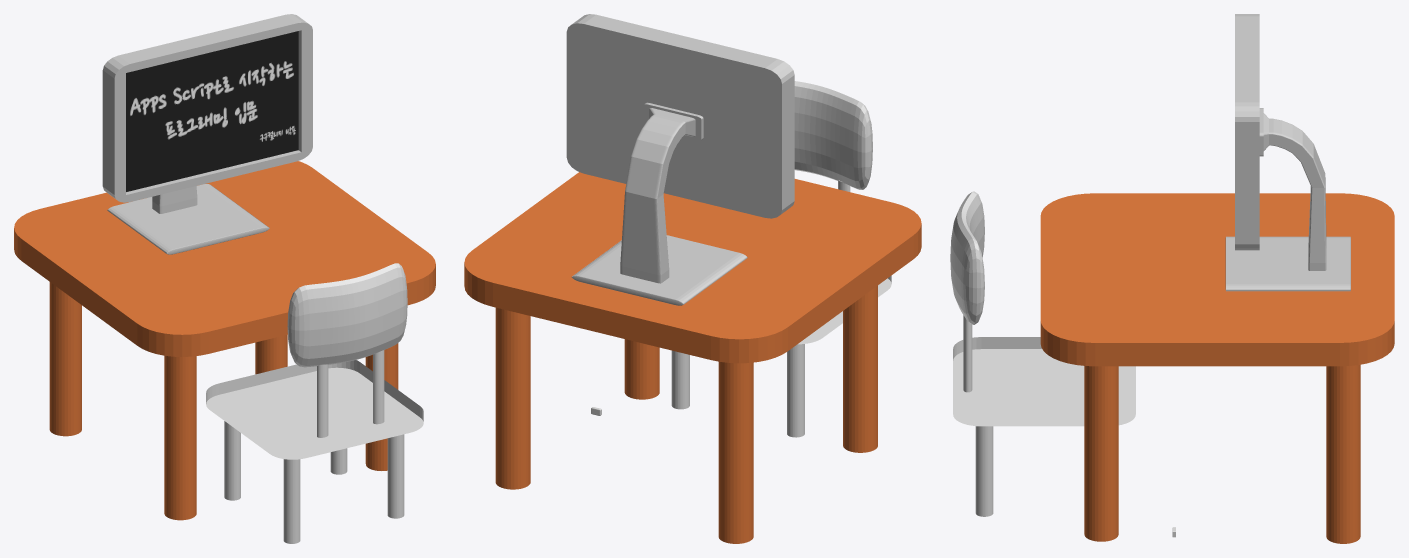
The model's file is desk_c_com_s_m.glb.
3 views of the same model, side by side, from view 1: azimuth 30°, elevation 25°; view 2: azimuth 150°, elevation 25°; view 3: azimuth 270°, elevation 25° (orthographic). The views are drawn at different scales.
Visible parts, largest first — view 1: desk, screen, monitor, chair_b, chair_f, silver; view 2: desk, monitor, chair_f, silver, chair_b; view 3: desk, monitor, chair_b, chair_f, silver.
Part boxes in pixels (x1=…): desk: x1=14, y1=161, x2=435, y2=520; screen: x1=126, y1=31, x2=298, y2=191; monitor: x1=102, y1=14, x2=312, y2=254; chair_b: x1=206, y1=360, x2=423, y2=459; chair_f: x1=287, y1=263, x2=407, y2=367; silver: x1=224, y1=350, x2=404, y2=543; desk: x1=464, y1=172, x2=921, y2=543; monitor: x1=566, y1=14, x2=794, y2=305; chair_f: x1=794, y1=81, x2=872, y2=189; silver: x1=671, y1=180, x2=850, y2=437; chair_b: x1=798, y1=275, x2=891, y2=344; desk: x1=1040, y1=193, x2=1394, y2=543; monitor: x1=1225, y1=14, x2=1350, y2=291; chair_b: x1=953, y1=337, x2=1135, y2=426; chair_f: x1=950, y1=191, x2=984, y2=324; silver: x1=963, y1=315, x2=993, y2=516.
Size of the model in its own units: 0.4172 by 0.5477 by 0.5236.
3 materials, 1 textured.
